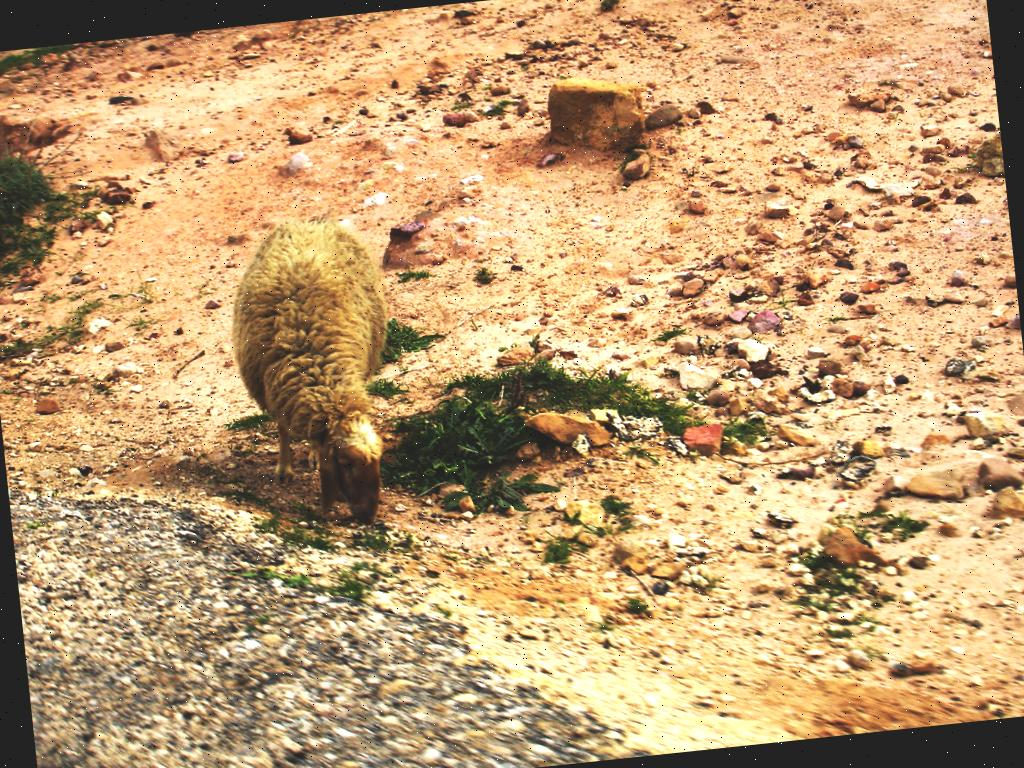Sheep: (216, 207, 408, 536)
